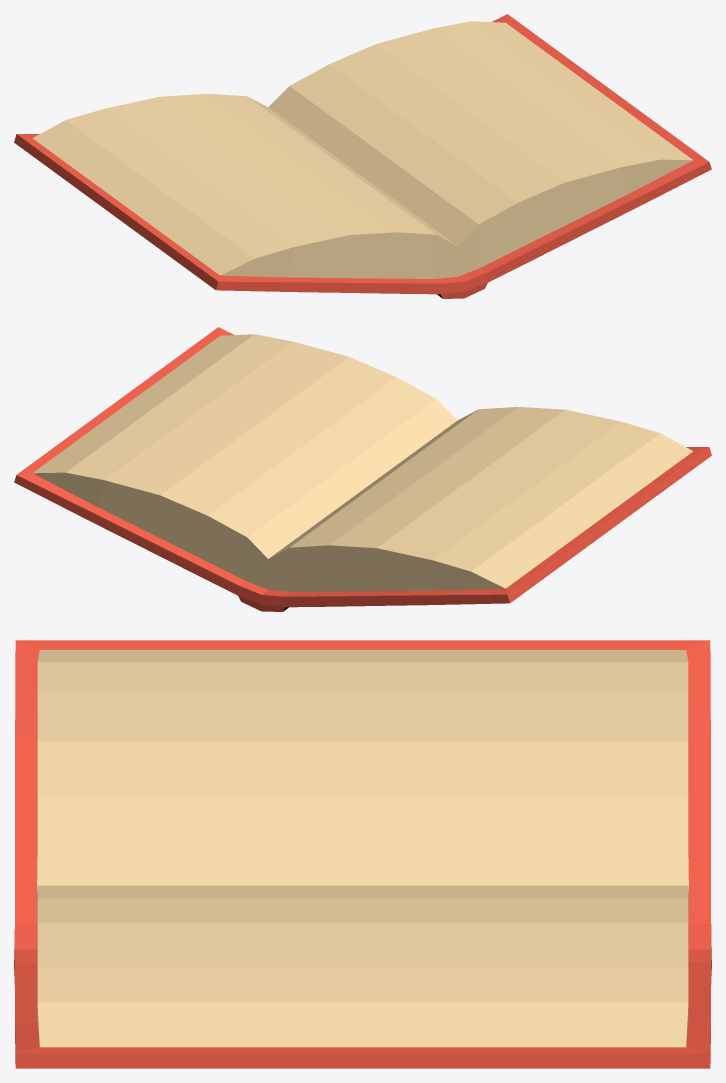
Rendered from book_2.fbx.
3 views of the same model, one above another, from view 1: azimuth 30°, elevation 25°; view 2: azimuth 150°, elevation 25°; view 3: azimuth 270°, elevation 25° (orthographic). The views are drawn at different scales.
Visible parts, largest first — view 1: Cube; view 2: Cube; view 3: Cube.
Boxes of the visible parts, bbox=[...] form: Cube: bbox=[14, 14, 711, 298]; Cube: bbox=[14, 327, 711, 611]; Cube: bbox=[14, 640, 711, 1068].
Size of the model in its own units: 47.58 by 7.95 by 33.71.
Materials: 1 (1 with a texture image).
